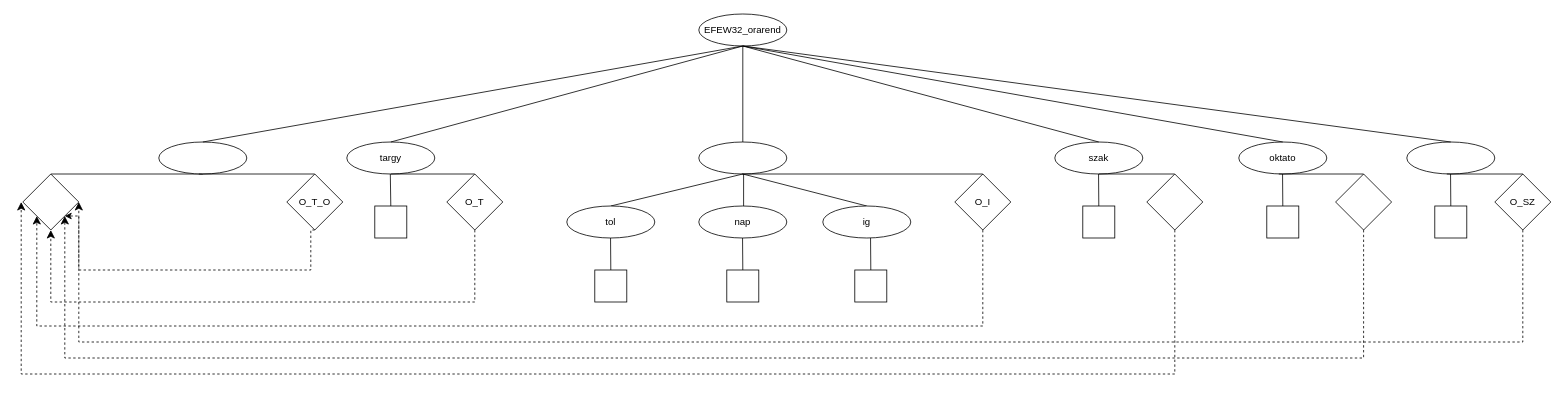
The diagram is 1565 pixels wide and 396 high, and some of its shapes have lost their labels. Each missing label, with the box of its shape:
helyszin: (1406, 141, 1495, 174)
idopont: (698, 141, 787, 174)
O_H: (1146, 173, 1203, 230)
O_O: (1335, 173, 1392, 230)
Okód: (22, 173, 79, 230)
ora: (158, 141, 247, 174)
